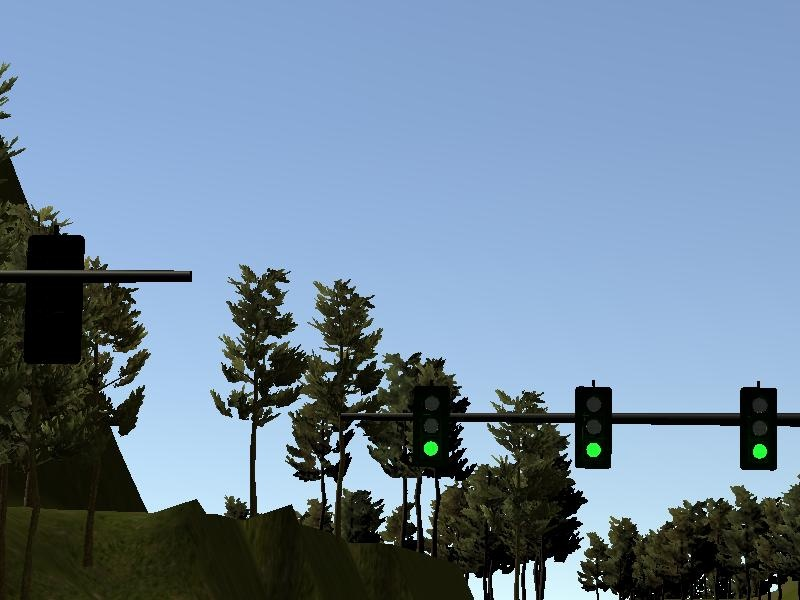GREEN: (411, 386, 450, 464), (575, 388, 613, 468), (740, 388, 776, 470)
